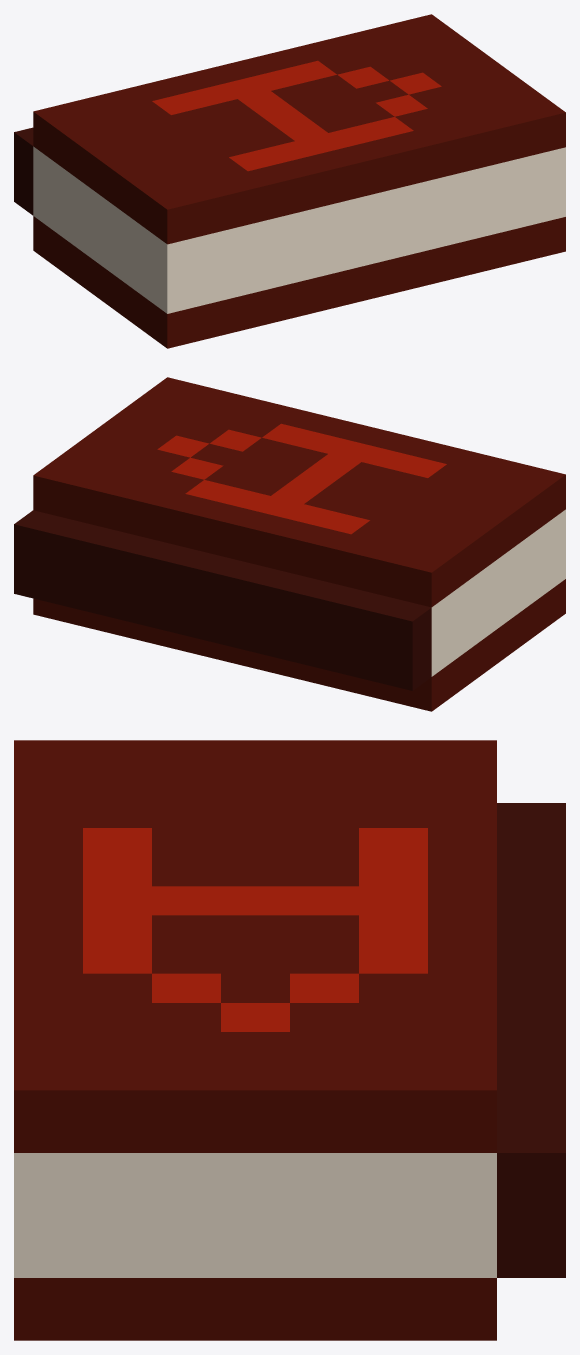
Rendered from Book.obj.
3 views of the same model, one above another, from view 1: azimuth 30°, elevation 25°; view 2: azimuth 150°, elevation 25°; view 3: azimuth 270°, elevation 25° (orthographic). The views are drawn at different scales.
Parts seen in each view (by area): view 1: Book; view 2: Book; view 3: Book.
Part boxes in pixels (x1,y1,x2,y2): Book: [14, 14, 565, 348]; Book: [14, 377, 565, 711]; Book: [14, 740, 565, 1340].
Size of the model in its own units: 12 by 4 by 8.
Materials: 1 (1 with a texture image).
